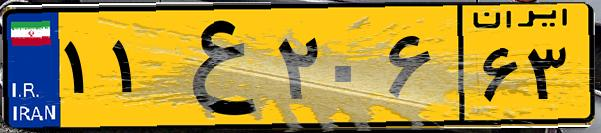0: (330, 28, 385, 110)
1: (57, 26, 110, 100), (110, 28, 158, 98)
2: (270, 28, 330, 110)
3: (525, 38, 570, 115)
6: (385, 28, 445, 110), (475, 38, 525, 113)
ع: (158, 12, 270, 120)
